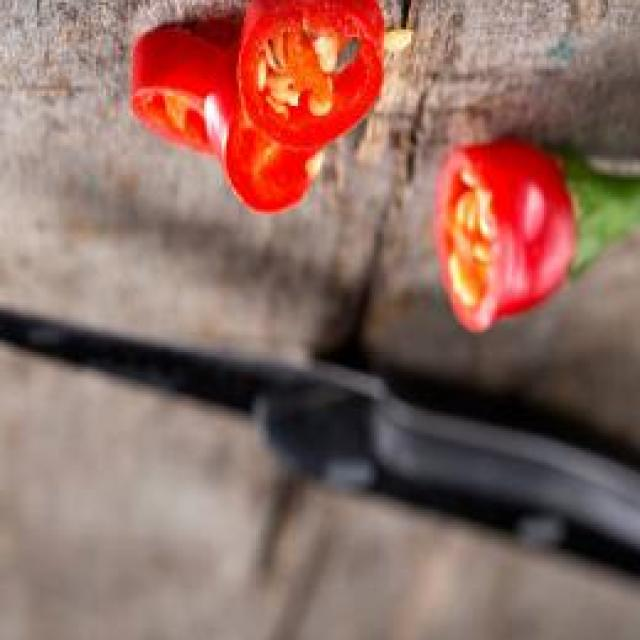knife: (0, 303, 640, 625)
